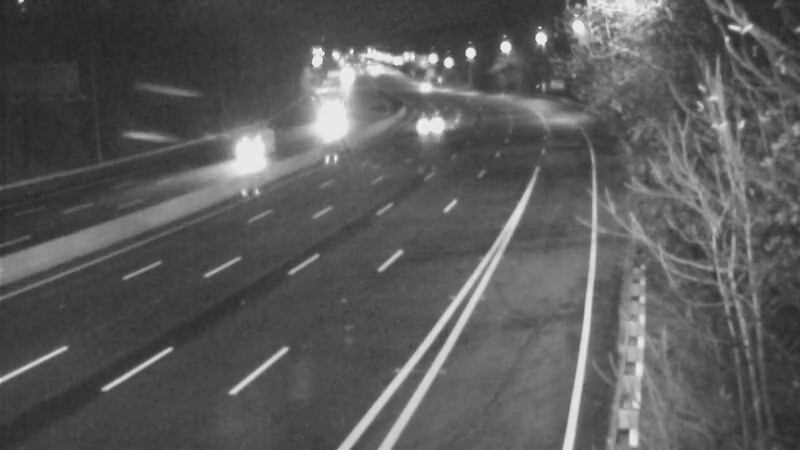vehicle: (208, 111, 288, 191), (399, 58, 449, 108), (409, 96, 459, 146), (303, 100, 353, 150)
